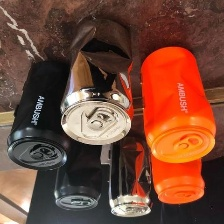can: (58, 12, 134, 148), (138, 44, 219, 164), (4, 55, 72, 172), (105, 132, 155, 219), (54, 139, 106, 212), (149, 154, 208, 207)
